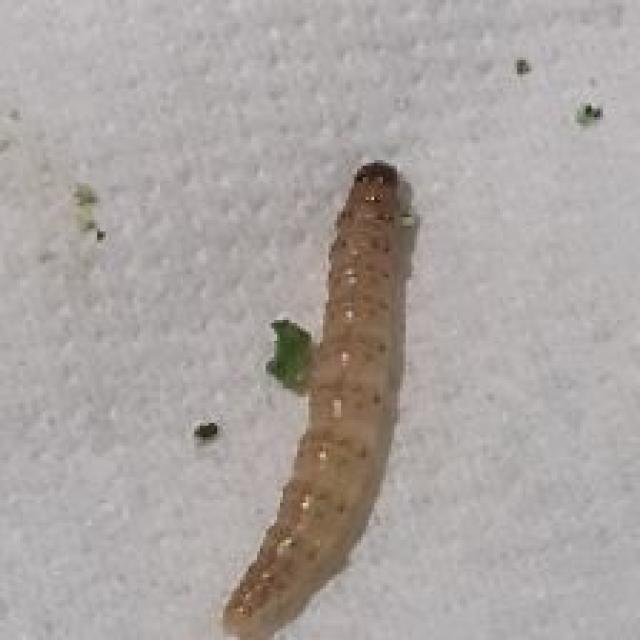white mucus: (213, 142, 431, 635)
